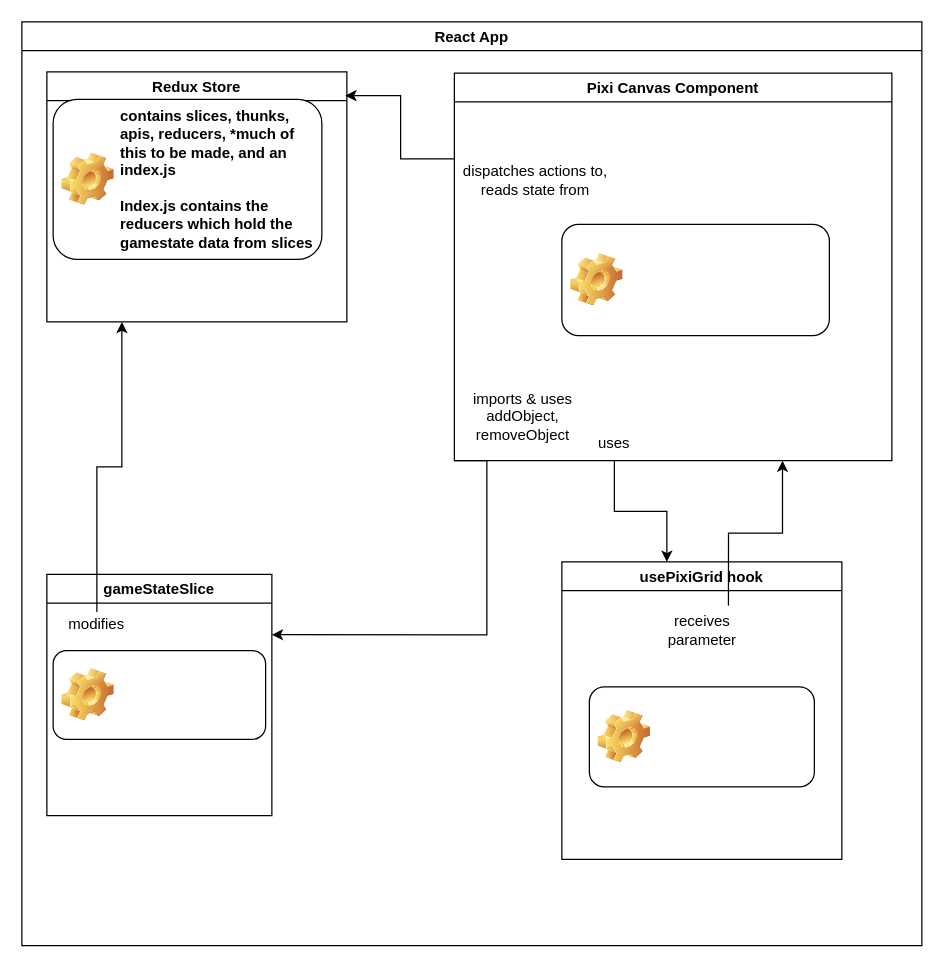
Image size: 944x968. Some labels were removed from this diagram. The centre of each missing label's shape, as x and y in pixels:
"contains addObject and removeObject actions" goes at (x=159, y=694).
"contains PIXI.Application and PIXI.Container, renders canvas" goes at (x=695, y=279).
"draws the grid using PIXI.Graphics" goes at (x=701, y=736).
